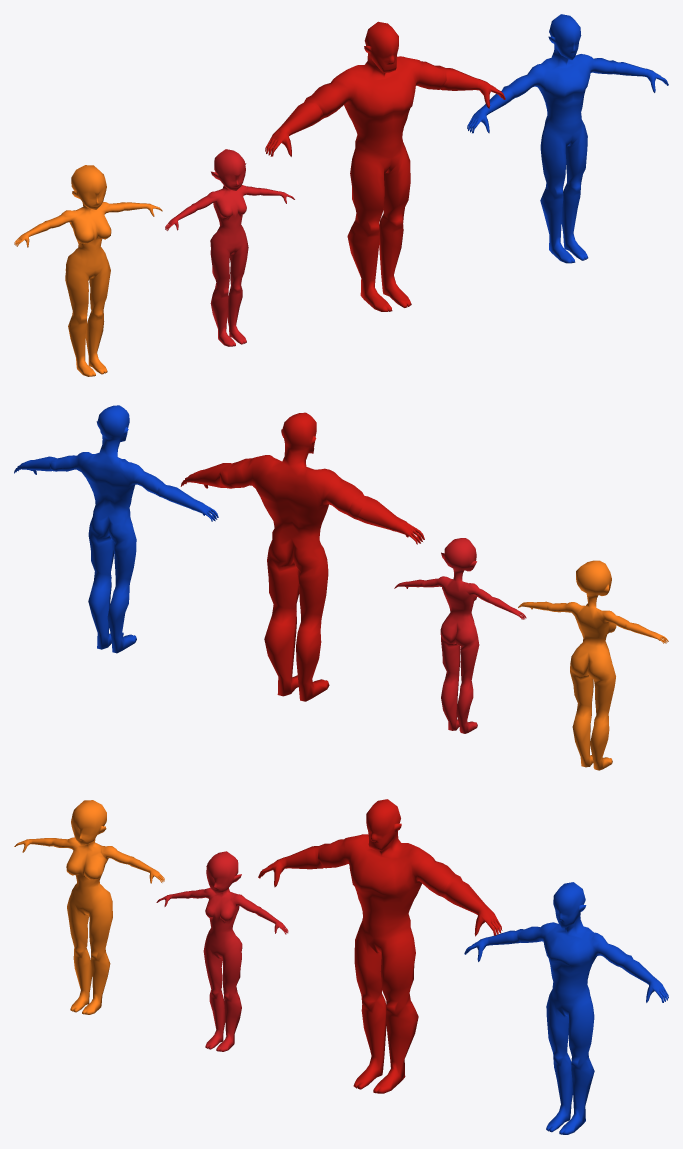
The model's file is myModel.obj.
The picture shows the model from 3 angles, top to bottom: view 1: azimuth 30°, elevation 25°; view 2: azimuth 150°, elevation 25°; view 3: azimuth 330°, elevation 25°; orthographic projection.
Visible parts, largest first — view 1: obj4, obj3, obj1, obj2; view 2: obj4, obj3, obj1, obj2; view 3: obj4, obj3, obj1, obj2.
Boxes of the visible parts, left/top/right/bottom form: obj4: left=265, top=21, right=505, bottom=311; obj3: left=467, top=14, right=668, bottom=263; obj1: left=14, top=165, right=162, bottom=376; obj2: left=165, top=149, right=294, bottom=346; obj4: left=180, top=412, right=424, bottom=701; obj3: left=14, top=405, right=218, bottom=653; obj1: left=518, top=560, right=668, bottom=770; obj2: left=394, top=538, right=526, bottom=733; obj4: left=258, top=799, right=502, bottom=1093; obj3: left=464, top=882, right=668, bottom=1134; obj1: left=14, top=800, right=164, bottom=1014; obj2: left=156, top=851, right=288, bottom=1051.
Size of the model in its own units: 5.58 by 2.26 by 0.4449.
